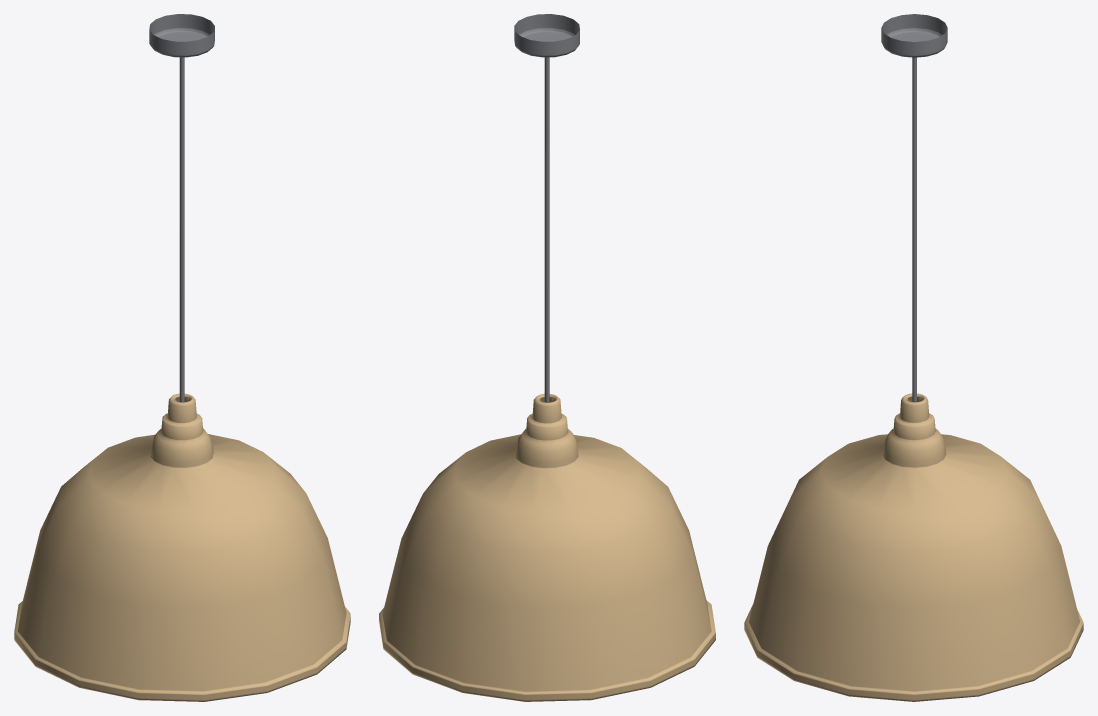
File: lamp_pendant.glb
The picture shows the model from 3 angles, left to right: view 1: azimuth 30°, elevation 25°; view 2: azimuth 150°, elevation 25°; view 3: azimuth 270°, elevation 25°; orthographic projection.
Parts seen in each view (by area): view 1: Lamp-shade_Cylinder.014, Light-Ceiling-Fitting_Circle, Lampshade-cable_Cylinder.015; view 2: Lamp-shade_Cylinder.014, Light-Ceiling-Fitting_Circle, Lampshade-cable_Cylinder.015; view 3: Lamp-shade_Cylinder.014, Light-Ceiling-Fitting_Circle, Lampshade-cable_Cylinder.015.
Boxes of the visible parts, x1,y1,x2,y2 form: Lamp-shade_Cylinder.014: [14, 393, 350, 701]; Light-Ceiling-Fitting_Circle: [149, 14, 214, 57]; Lampshade-cable_Cylinder.015: [179, 57, 184, 401]; Lamp-shade_Cylinder.014: [379, 393, 715, 701]; Light-Ceiling-Fitting_Circle: [514, 14, 579, 57]; Lampshade-cable_Cylinder.015: [544, 57, 549, 402]; Lamp-shade_Cylinder.014: [744, 393, 1083, 701]; Light-Ceiling-Fitting_Circle: [881, 14, 947, 57]; Lampshade-cable_Cylinder.015: [912, 57, 916, 401].
Bounding box in the file's own units: 0.439 × 0.86 × 0.439.
